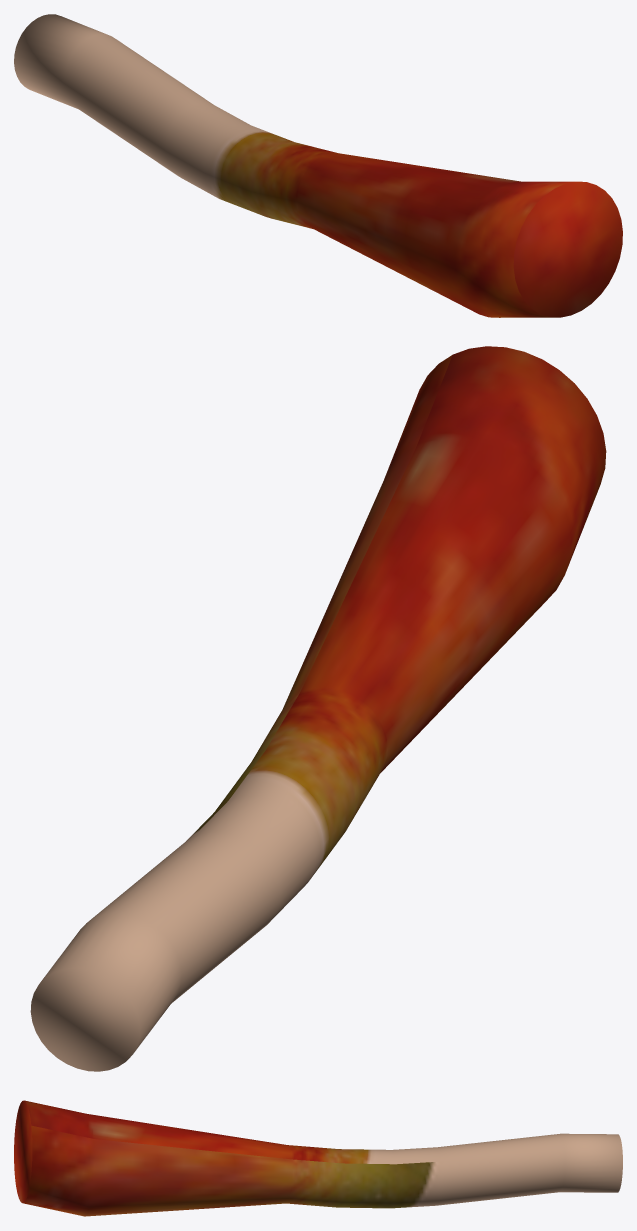
3 renders of one model, top to bottom at view 1: azimuth 30°, elevation 25°; view 2: azimuth 150°, elevation 25°; view 3: azimuth 270°, elevation 25°, orthographic. The views are drawn at different scales.
Size of the model in its own units: 0.0628 by 0.0504 by 0.215.
